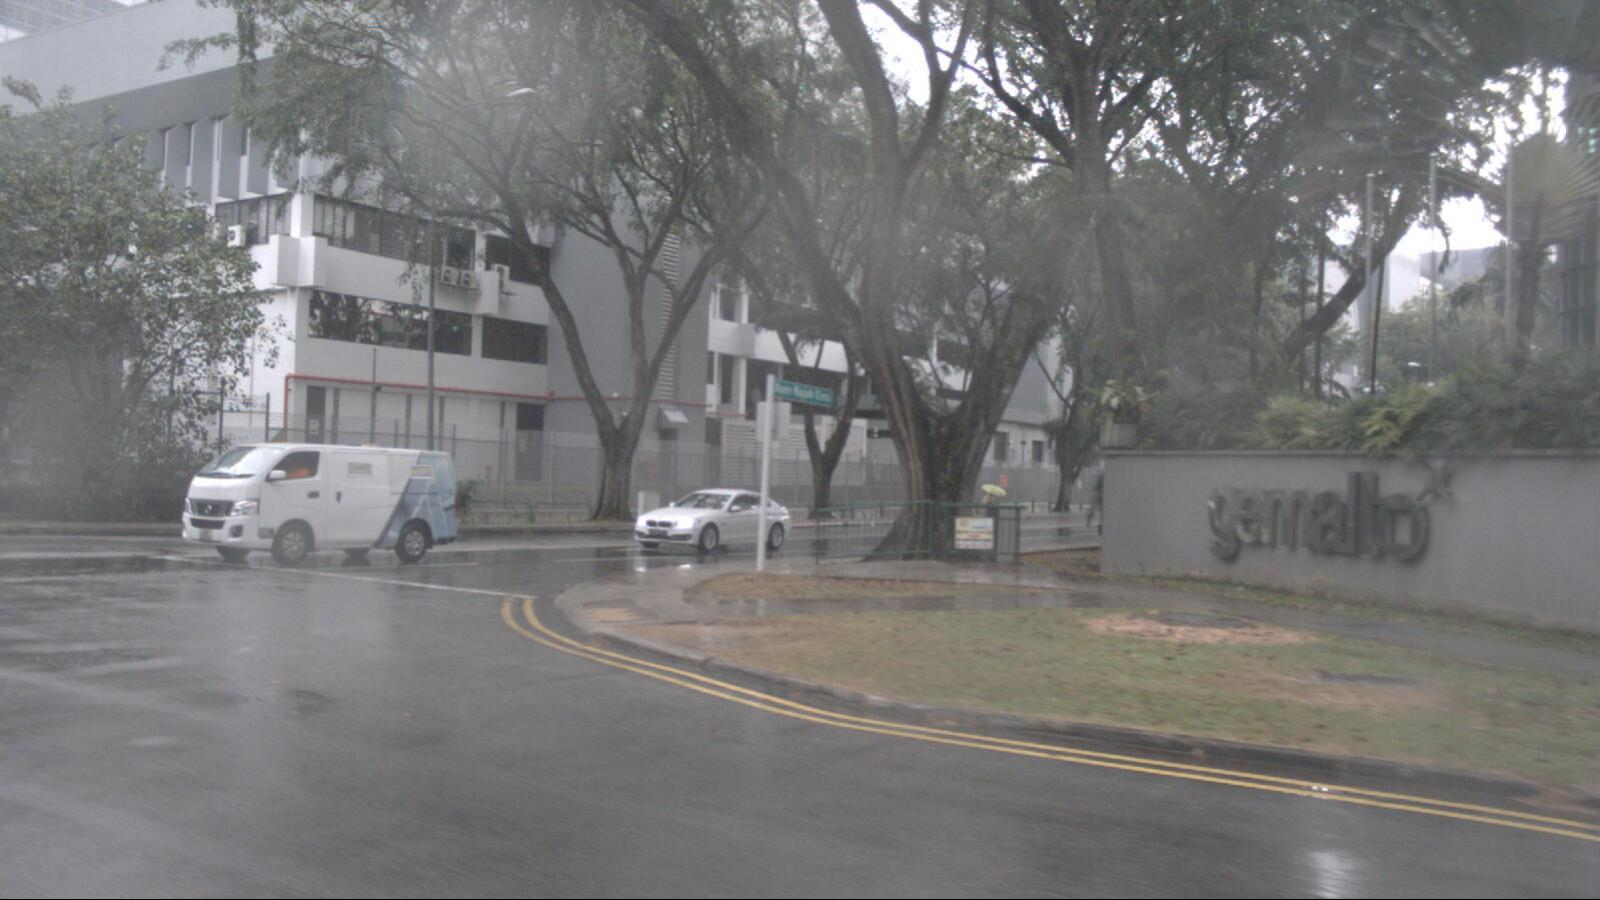human.pedestrian.adult-pedestrian.moving: (980, 483, 1006, 533)
